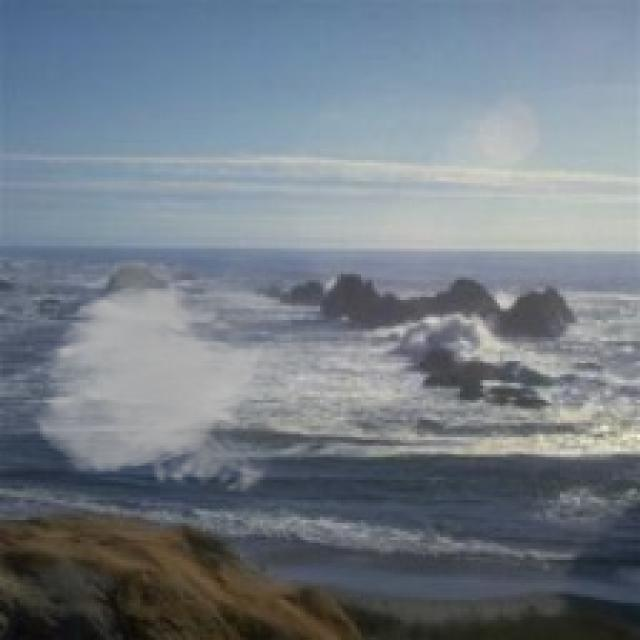smoke: (31, 251, 292, 500)
